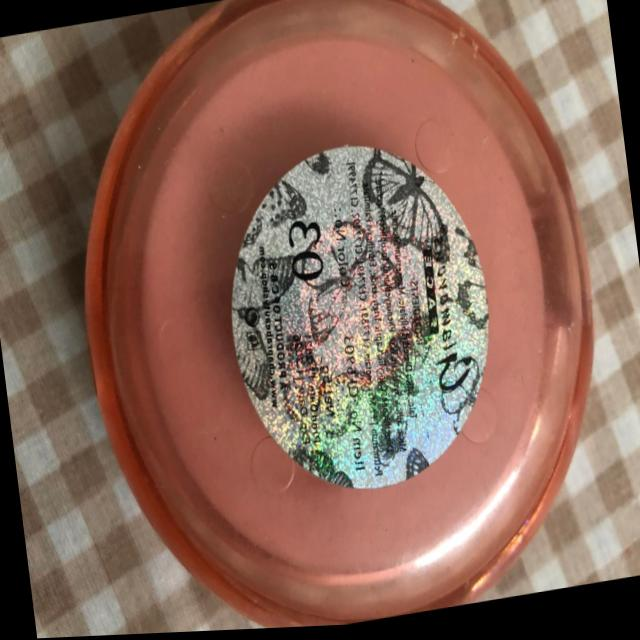powder: (32, 0, 640, 639)
